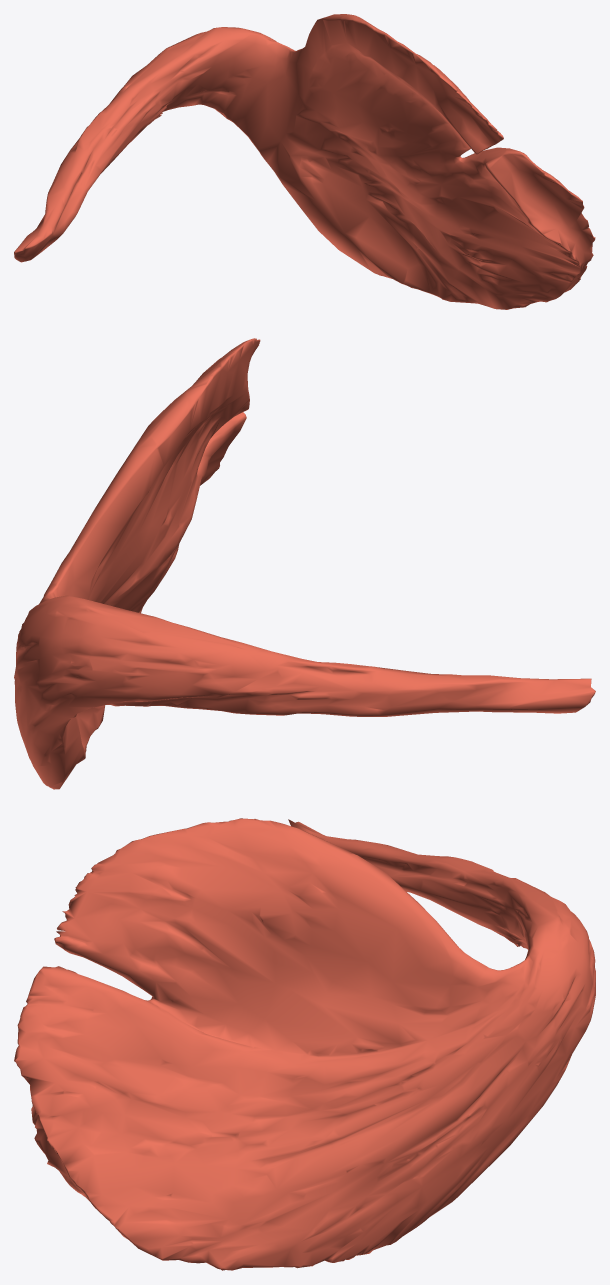
File: obturator-internus.glb
3 views of the same model, one above another, from view 1: azimuth 30°, elevation 25°; view 2: azimuth 150°, elevation 25°; view 3: azimuth 270°, elevation 25° (orthographic). The views are drawn at different scales.
Visible parts, largest first — view 1: Obturator internus.r; view 2: Obturator internus.r; view 3: Obturator internus.r.
Part boxes in pixels (left/top/right/bottom): Obturator internus.r: left=14, top=14, right=595, bottom=309; Obturator internus.r: left=14, top=338, right=595, bottom=789; Obturator internus.r: left=14, top=818, right=595, bottom=1270.
Size of the model in its own units: 0.0976 by 0.0598 by 0.0817.
